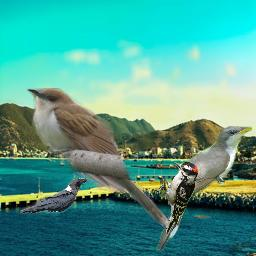Crow: (20, 178, 87, 214)
Cuckoo: (26, 88, 170, 228), (157, 126, 252, 250)
Woodpecker: (158, 160, 198, 234)
